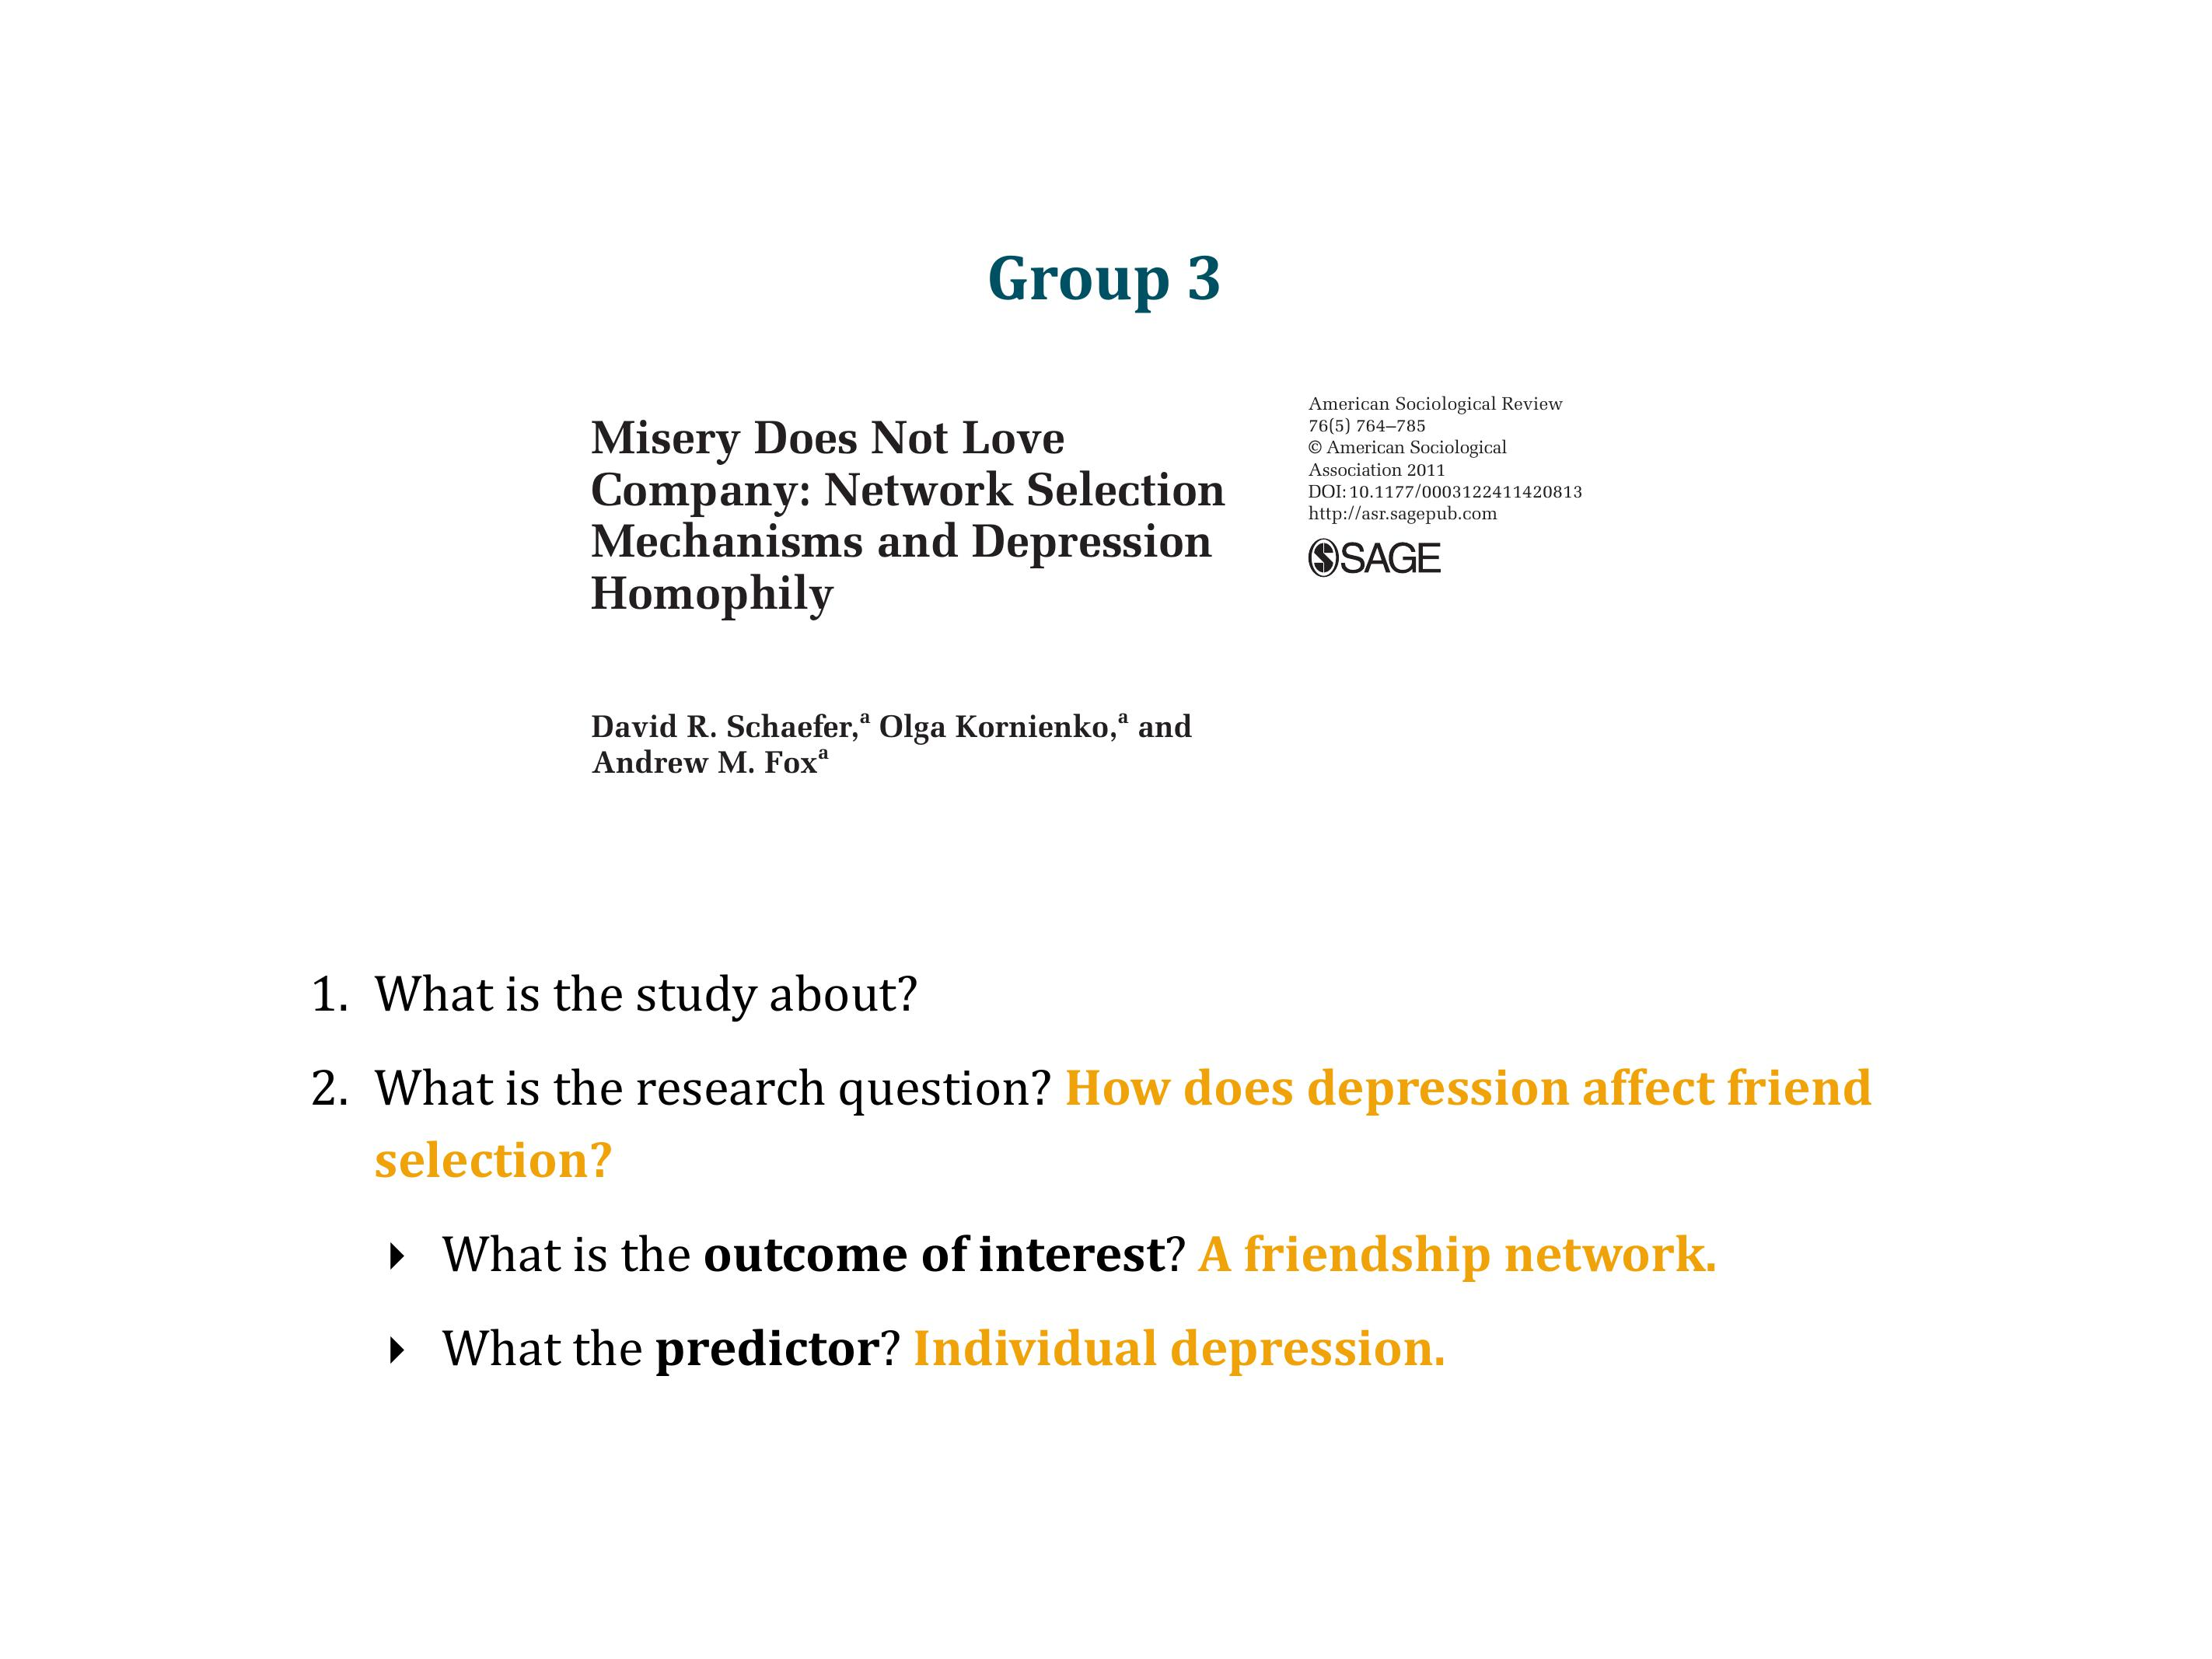Title: (971, 237, 1241, 319)
